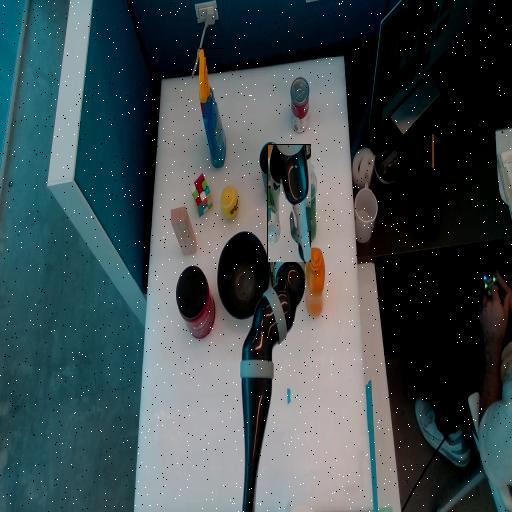bowl: (217, 250, 268, 302)
cleanser: (300, 161, 316, 241)
coffee_can: (175, 283, 214, 322)
jaco: (268, 144, 311, 262)
meat_can: (267, 244, 289, 298)
mug: (259, 143, 289, 199)
mustard_bottle: (305, 274, 324, 293)
rubik: (190, 174, 212, 217)
soup_can: (290, 78, 308, 133)
tennis_ball: (221, 188, 238, 218)
windex: (198, 49, 225, 167)
wooden_block: (171, 208, 195, 254)
workspace: (135, 57, 372, 509)
